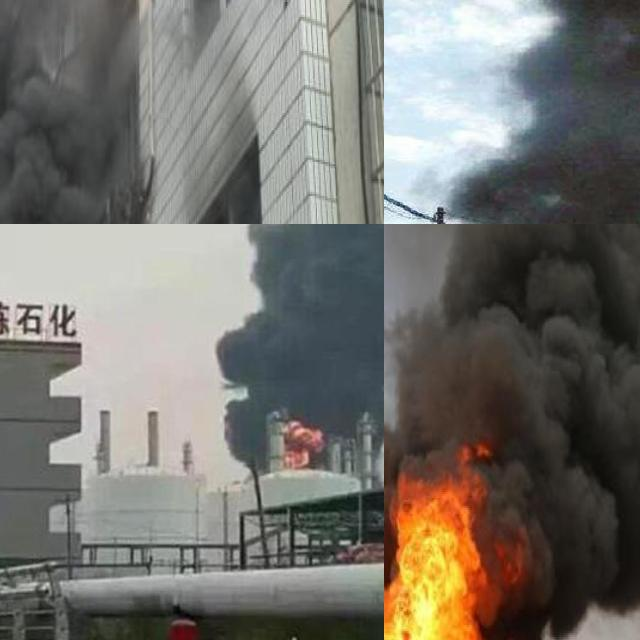fire: (384, 446, 555, 640), (283, 420, 324, 467)
smoke: (384, 224, 640, 640), (444, 0, 640, 224), (206, 224, 384, 462), (0, 0, 141, 224)
